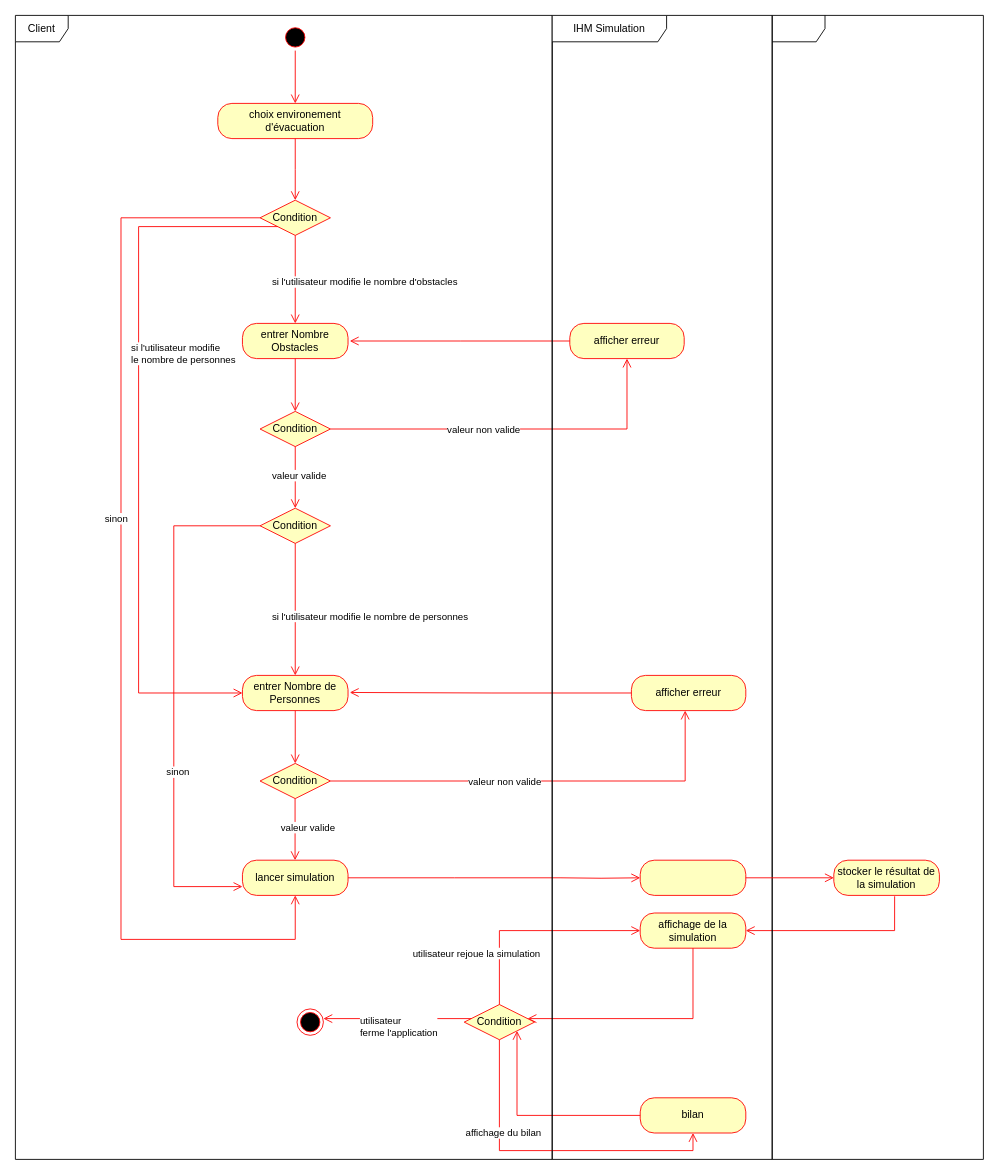
The diagram is 999 pixels wide and 1175 high, and some of its shapes have lost their labels. Here are the shapes that lost their labels. From the top down, the centre of each, then its label:
At [877,587]: "Fichier".
At [692,877]: "Calculs".
